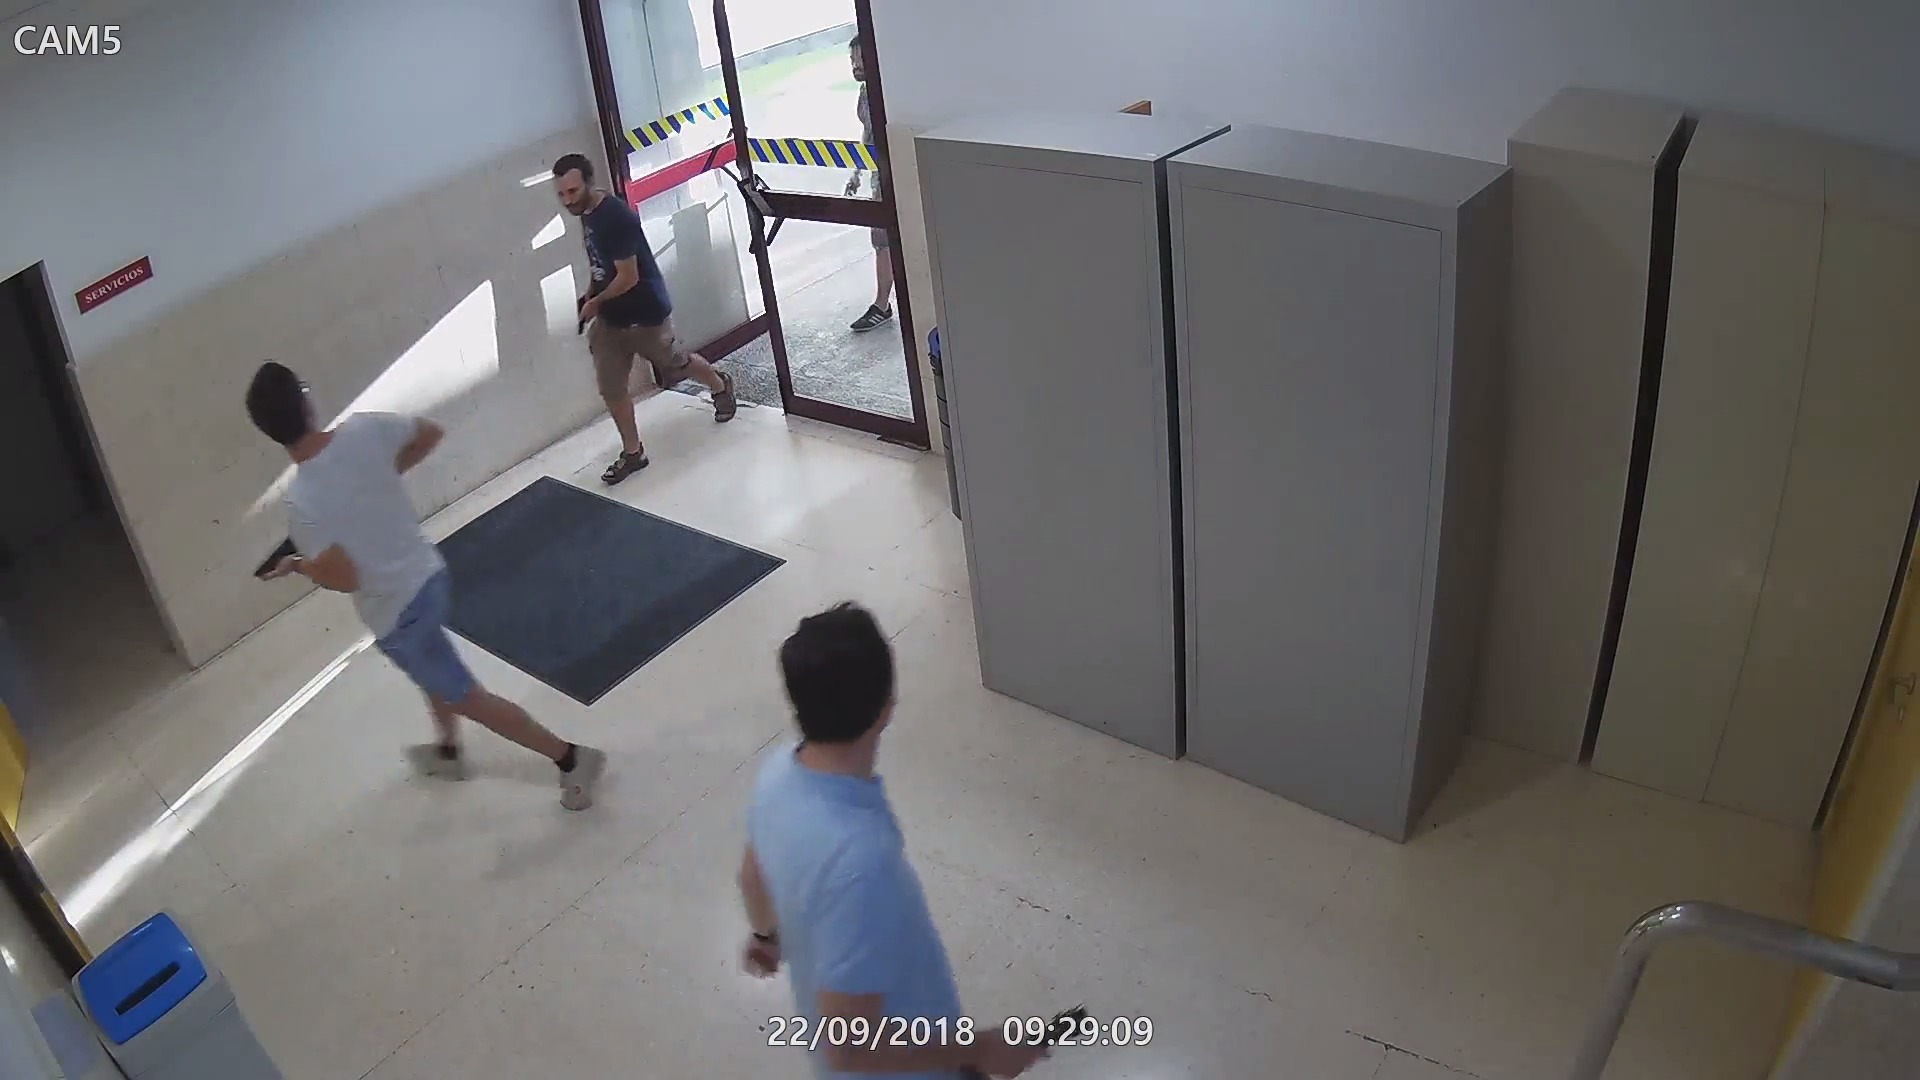Handgun: (574, 285, 600, 335), (841, 178, 856, 200)
Short_rifle: (253, 538, 302, 582)
